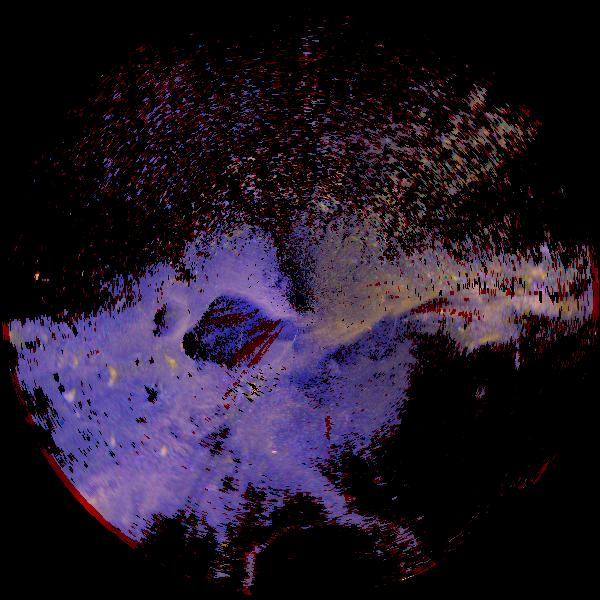roost: (93, 362, 120, 389), (161, 359, 179, 377), (67, 390, 79, 402)
